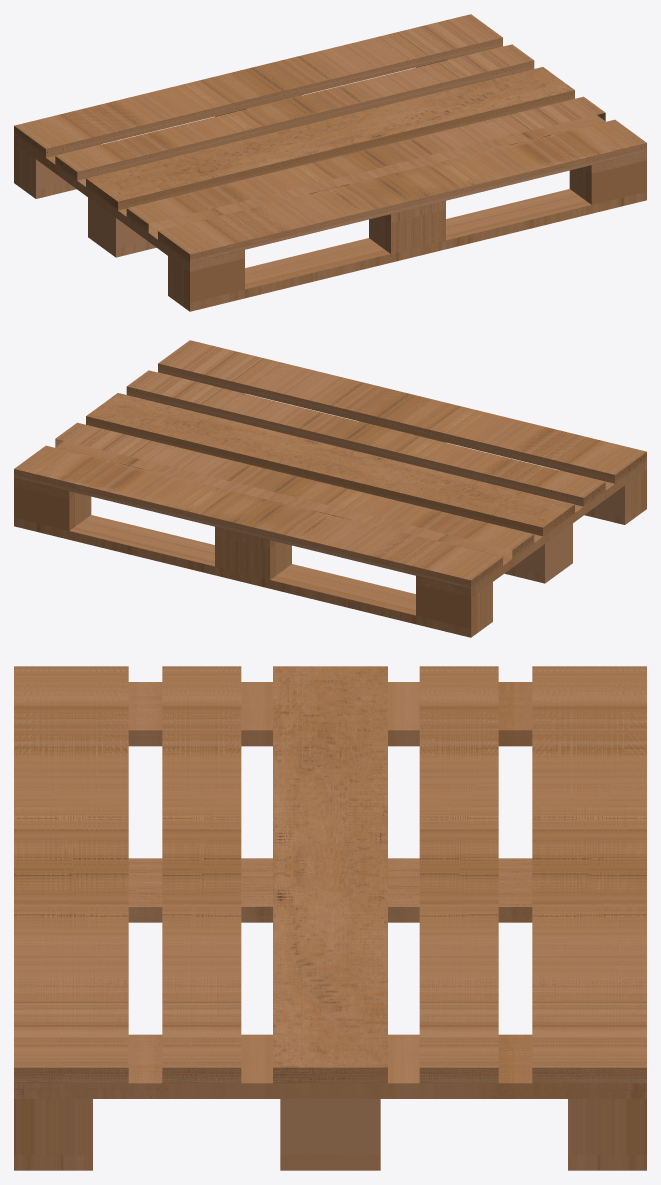
Rendered from euro_pallet_wt.glb.
3 views of the same model, one above another, from view 1: azimuth 30°, elevation 25°; view 2: azimuth 150°, elevation 25°; view 3: azimuth 270°, elevation 25° (orthographic). The views are drawn at different scales.
Visible parts, largest first — view 1: EuroPallet; view 2: EuroPallet; view 3: EuroPallet.
Boxes of the visible parts, x1=… form: EuroPallet: x1=14, y1=14, x2=646, y2=311; EuroPallet: x1=14, y1=340, x2=646, y2=637; EuroPallet: x1=14, y1=666, x2=646, y2=1170.
Bounding box in the file's own units: 1.2 × 0.144 × 0.8.
1 material, 1 textured.
